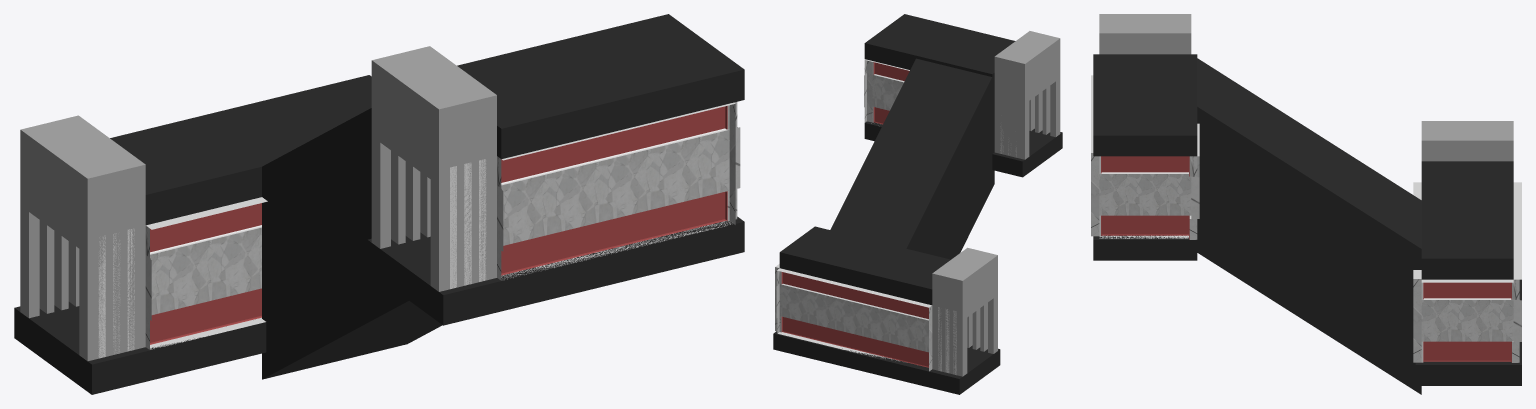
The model's file is Corridor_small_uv.fbx.
3 views of the same model, side by side, from view 1: azimuth 30°, elevation 25°; view 2: azimuth 150°, elevation 25°; view 3: azimuth 270°, elevation 25° (orthographic). The views are drawn at different scales.
Parts seen in each view (by area): view 1: polySurface8, A_stairs_coridor_10x14x3_2, A_portal_short_light_cube_1, A_portal_short_light_cube_4, A_bridge_coridor_1x4x10_12, A_bridge_coridor_1x4x10_10, polySurface7, A_bridge_coridor_1x4x10_11, A_bridge_coridor_1x4x6_55, polySurface9; view 2: A_stairs_coridor_10x14x3_2, polySurface4, A_bridge_coridor_1x4x10_10, A_portal_short_light_cube_1, A_portal_short_light_cube_4, A_bridge_coridor_1x4x10_12, A_bridge_coridor_1x4x6_55, A_bridge_coridor_1x4x10_11, polySurface10, polySurface9, polySurface5; view 3: A_stairs_coridor_10x14x3_2, A_bridge_coridor_1x4x10_10, A_bridge_coridor_1x4x10_12, polySurface5, polySurface9, A_portal_short_light_cube_1, A_portal_short_light_cube_4, A_bridge_coridor_1x4x6_55, A_bridge_coridor_1x4x10_11, polySurface4, polySurface8, polySurface6 (+1 smaller).
Boxes of the visible parts, x1,y1,x2,y2 form: polySurface8: (497, 102, 735, 280); A_stairs_coridor_10x14x3_2: (262, 108, 442, 379); A_portal_short_light_cube_1: (371, 46, 496, 291); A_portal_short_light_cube_4: (20, 115, 145, 361); A_bridge_coridor_1x4x10_12: (457, 14, 744, 159); A_bridge_coridor_1x4x10_10: (110, 75, 371, 225); polySurface7: (145, 197, 267, 349); A_bridge_coridor_1x4x10_11: (367, 216, 744, 325); A_bridge_coridor_1x4x6_55: (14, 302, 266, 394); polySurface9: (725, 102, 740, 221); A_stairs_coridor_10x14x3_2: (830, 58, 994, 259); polySurface4: (776, 268, 932, 371); A_bridge_coridor_1x4x10_10: (779, 226, 950, 305); A_portal_short_light_cube_1: (994, 31, 1060, 159); A_portal_short_light_cube_4: (932, 247, 997, 376); A_bridge_coridor_1x4x10_12: (864, 14, 1015, 89); A_bridge_coridor_1x4x6_55: (773, 331, 1000, 394); A_bridge_coridor_1x4x10_11: (864, 121, 1062, 177); polySurface10: (864, 59, 909, 124); polySurface9: (867, 60, 874, 122); polySurface5: (775, 264, 782, 332); A_stairs_coridor_10x14x3_2: (1197, 58, 1421, 394); A_bridge_coridor_1x4x10_10: (1421, 161, 1513, 279); A_bridge_coridor_1x4x10_12: (1093, 54, 1197, 156); polySurface5: (1421, 279, 1513, 361); polySurface9: (1099, 156, 1191, 238); A_portal_short_light_cube_1: (1099, 14, 1191, 54); A_portal_short_light_cube_4: (1421, 121, 1513, 161); A_bridge_coridor_1x4x6_55: (1415, 279, 1521, 385); A_bridge_coridor_1x4x10_11: (1093, 235, 1197, 260); polySurface4: (1511, 182, 1521, 362); polySurface8: (1091, 75, 1101, 236); polySurface6: (1413, 270, 1423, 362).
Bounding box in the file's own units: 144 × 150 × 187.
